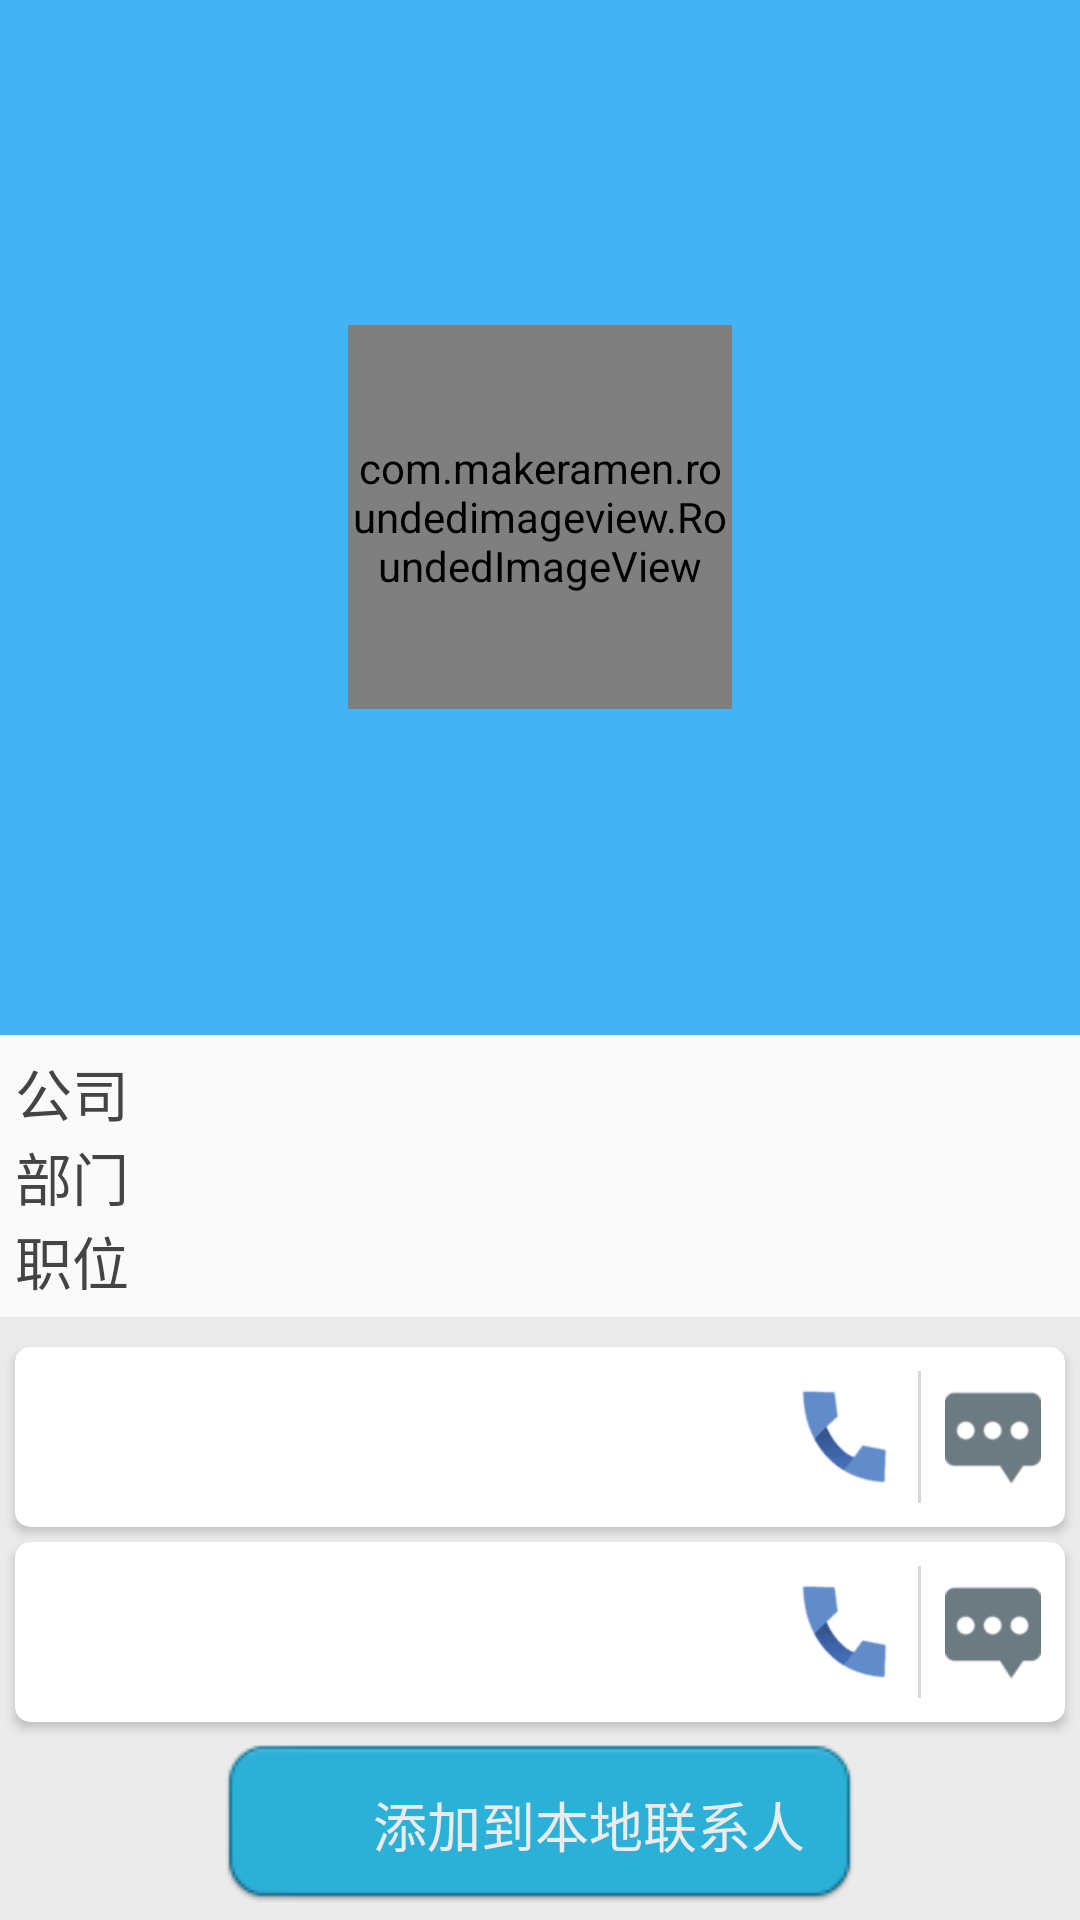

Icon bounding boxes for this 1080x1920 phone screenshot, format (x1, y1, x2, y2):
call: (802, 1391, 887, 1483), (802, 1586, 887, 1678)
message: (945, 1392, 1041, 1483), (945, 1587, 1041, 1678)
